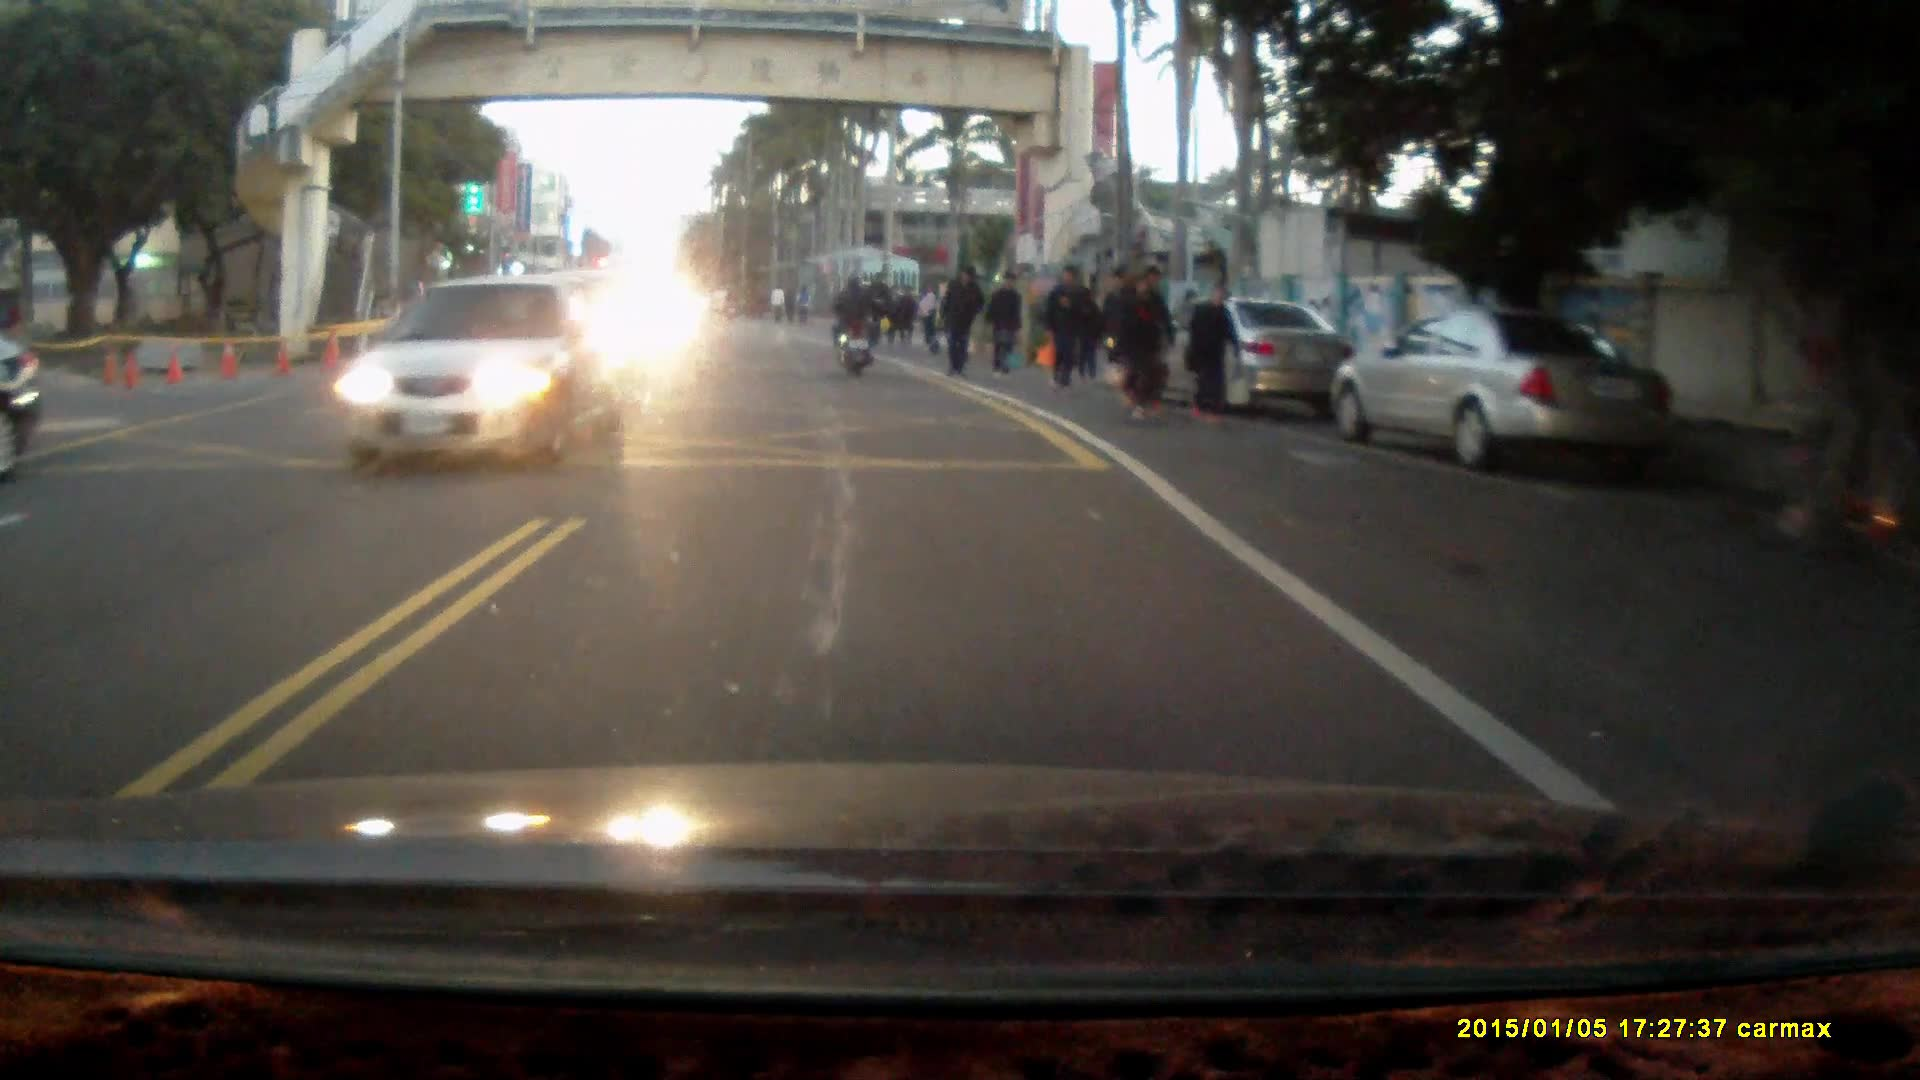pedestrian: (1183, 279, 1241, 425), (1117, 271, 1166, 422), (1043, 261, 1088, 391), (938, 263, 985, 378), (983, 268, 1026, 379)
rider: (829, 271, 881, 378)
vehicle: (332, 272, 636, 469), (1337, 305, 1678, 467), (1122, 298, 1361, 412), (1, 296, 44, 465)
